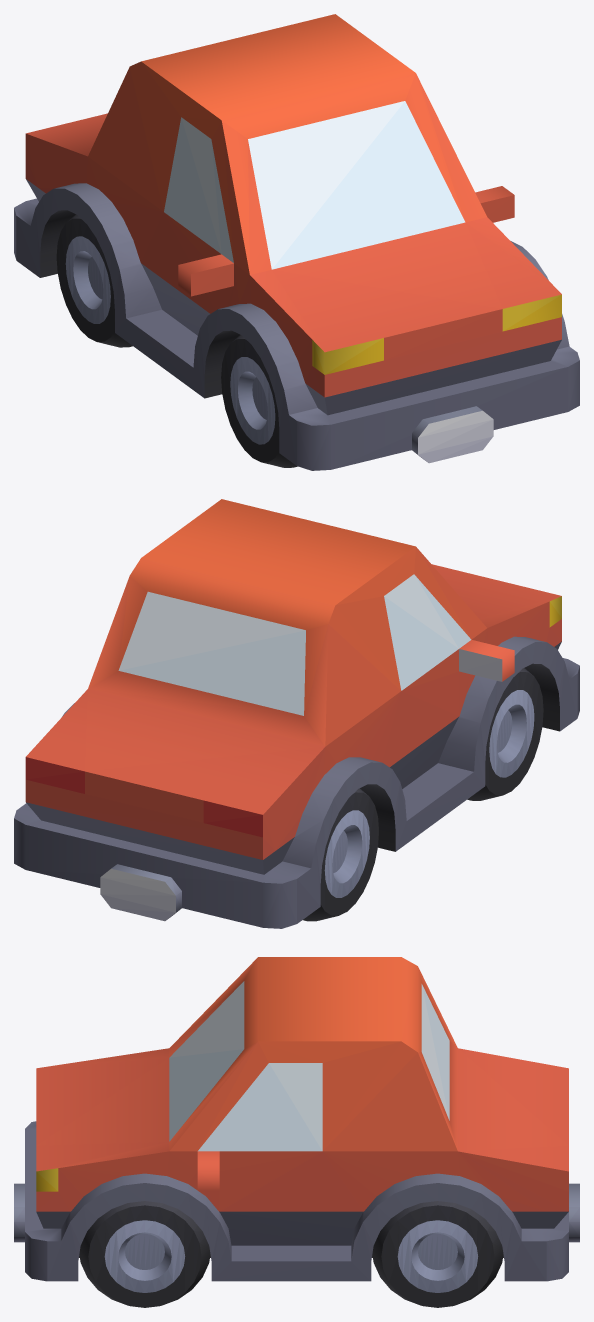
File: sedan-3ee651bf49.glb
3 views of the same model, one above another, from view 1: azimuth 30°, elevation 25°; view 2: azimuth 150°, elevation 25°; view 3: azimuth 270°, elevation 25° (orthographic). The views are drawn at different scales.
Parts seen in each view (by area): view 1: body, WheelFrontR, WheelRearR; view 2: body, WheelRearR, WheelFrontR; view 3: body, WheelRearL, WheelFrontL.
Boxes of the visible parts, x1,y1,x2,y2 form: body: (14, 14, 579, 470); WheelFrontR: (221, 335, 297, 467); WheelRearR: (56, 214, 132, 347); body: (14, 499, 579, 928); WheelRearR: (303, 788, 378, 921); WheelFrontR: (467, 668, 543, 800); body: (14, 957, 579, 1281); WheelRearL: (372, 1201, 503, 1307); WheelFrontL: (79, 1201, 210, 1307).
Size of the model in its own units: 2.88 by 2.5 by 4.9.
